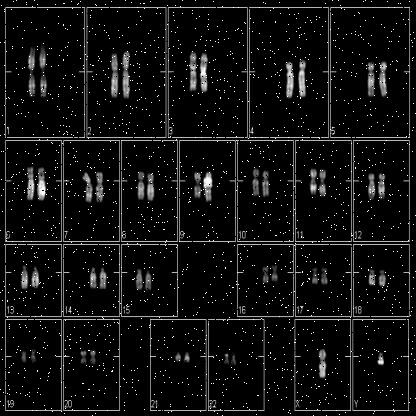1: (38, 41, 50, 102), (25, 42, 37, 102)
10: (260, 161, 272, 203), (249, 164, 261, 202)
11: (318, 160, 328, 198), (308, 164, 318, 197)
12: (378, 164, 388, 202), (366, 170, 376, 202)
13: (20, 262, 28, 290), (32, 262, 40, 290)
14: (97, 259, 109, 292), (87, 264, 98, 290)
15: (143, 258, 155, 297), (134, 264, 144, 294)
16: (270, 255, 280, 291), (260, 261, 270, 289)
17: (320, 256, 330, 290), (309, 262, 320, 290)
18: (378, 260, 392, 292), (366, 262, 378, 290)
19: (30, 343, 40, 367), (19, 343, 28, 367)
2: (120, 44, 132, 104), (108, 51, 120, 102)
20: (76, 345, 88, 372), (89, 346, 98, 375)
21: (183, 348, 193, 366), (172, 349, 183, 364)
22: (229, 346, 238, 370), (222, 350, 230, 368)
3: (198, 42, 209, 94), (188, 48, 198, 94)
4: (295, 46, 309, 104), (284, 56, 294, 103)
5: (376, 46, 388, 106), (365, 58, 377, 104)
6: (24, 160, 34, 206), (38, 162, 45, 208)
7: (79, 168, 94, 208), (96, 168, 104, 210)
8: (146, 161, 158, 208), (136, 168, 146, 205)
9: (202, 164, 216, 204), (192, 169, 202, 201)
X: (316, 344, 328, 385)
Y: (375, 346, 387, 374)
